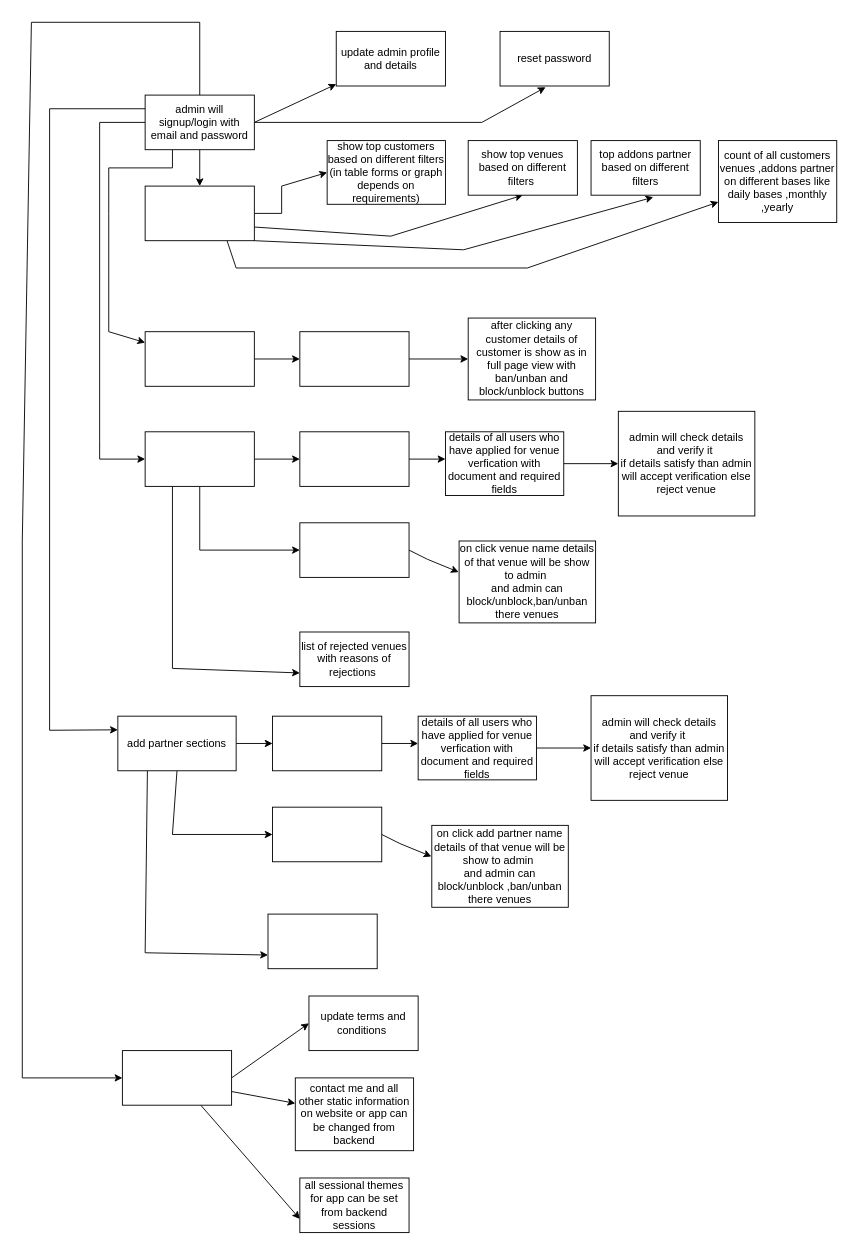
The diagram is 853 pixels wide and 1249 high, and some of its shapes have lost their labels. Each missing label, with the box of its shape:
add partner verfication section: (272, 715, 382, 771)
admin panel have dashboard: (144, 185, 254, 241)
all static site pages data updates: (121, 1050, 232, 1105)
customer sections: (144, 331, 254, 386)
list of all verfied add partner: (272, 806, 382, 862)
list of all verfied venue's: (299, 522, 409, 577)
list of rejected add partner with reasons of rejections: (267, 913, 377, 969)
show details of all customers with ban/unban and block/unblock buttons: (299, 331, 409, 386)
venue sections: (144, 431, 254, 486)
venue verfication section: (299, 431, 409, 486)
